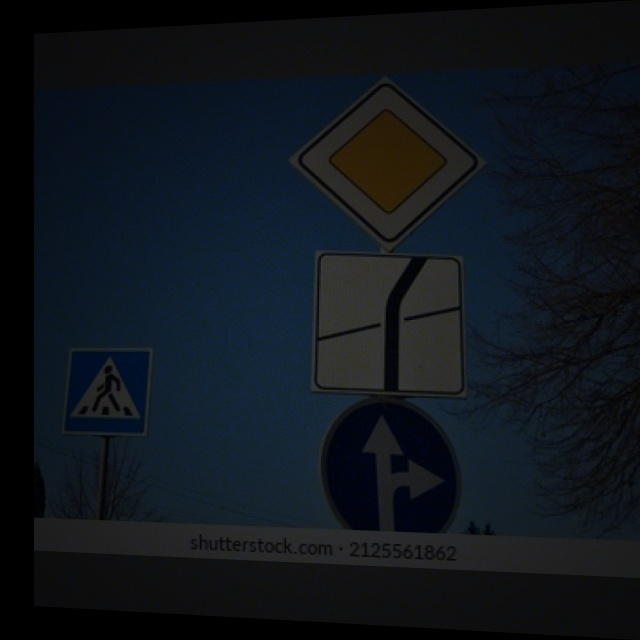Compulsory_Ahead_or_Turn_Right: (325, 402, 461, 533)
